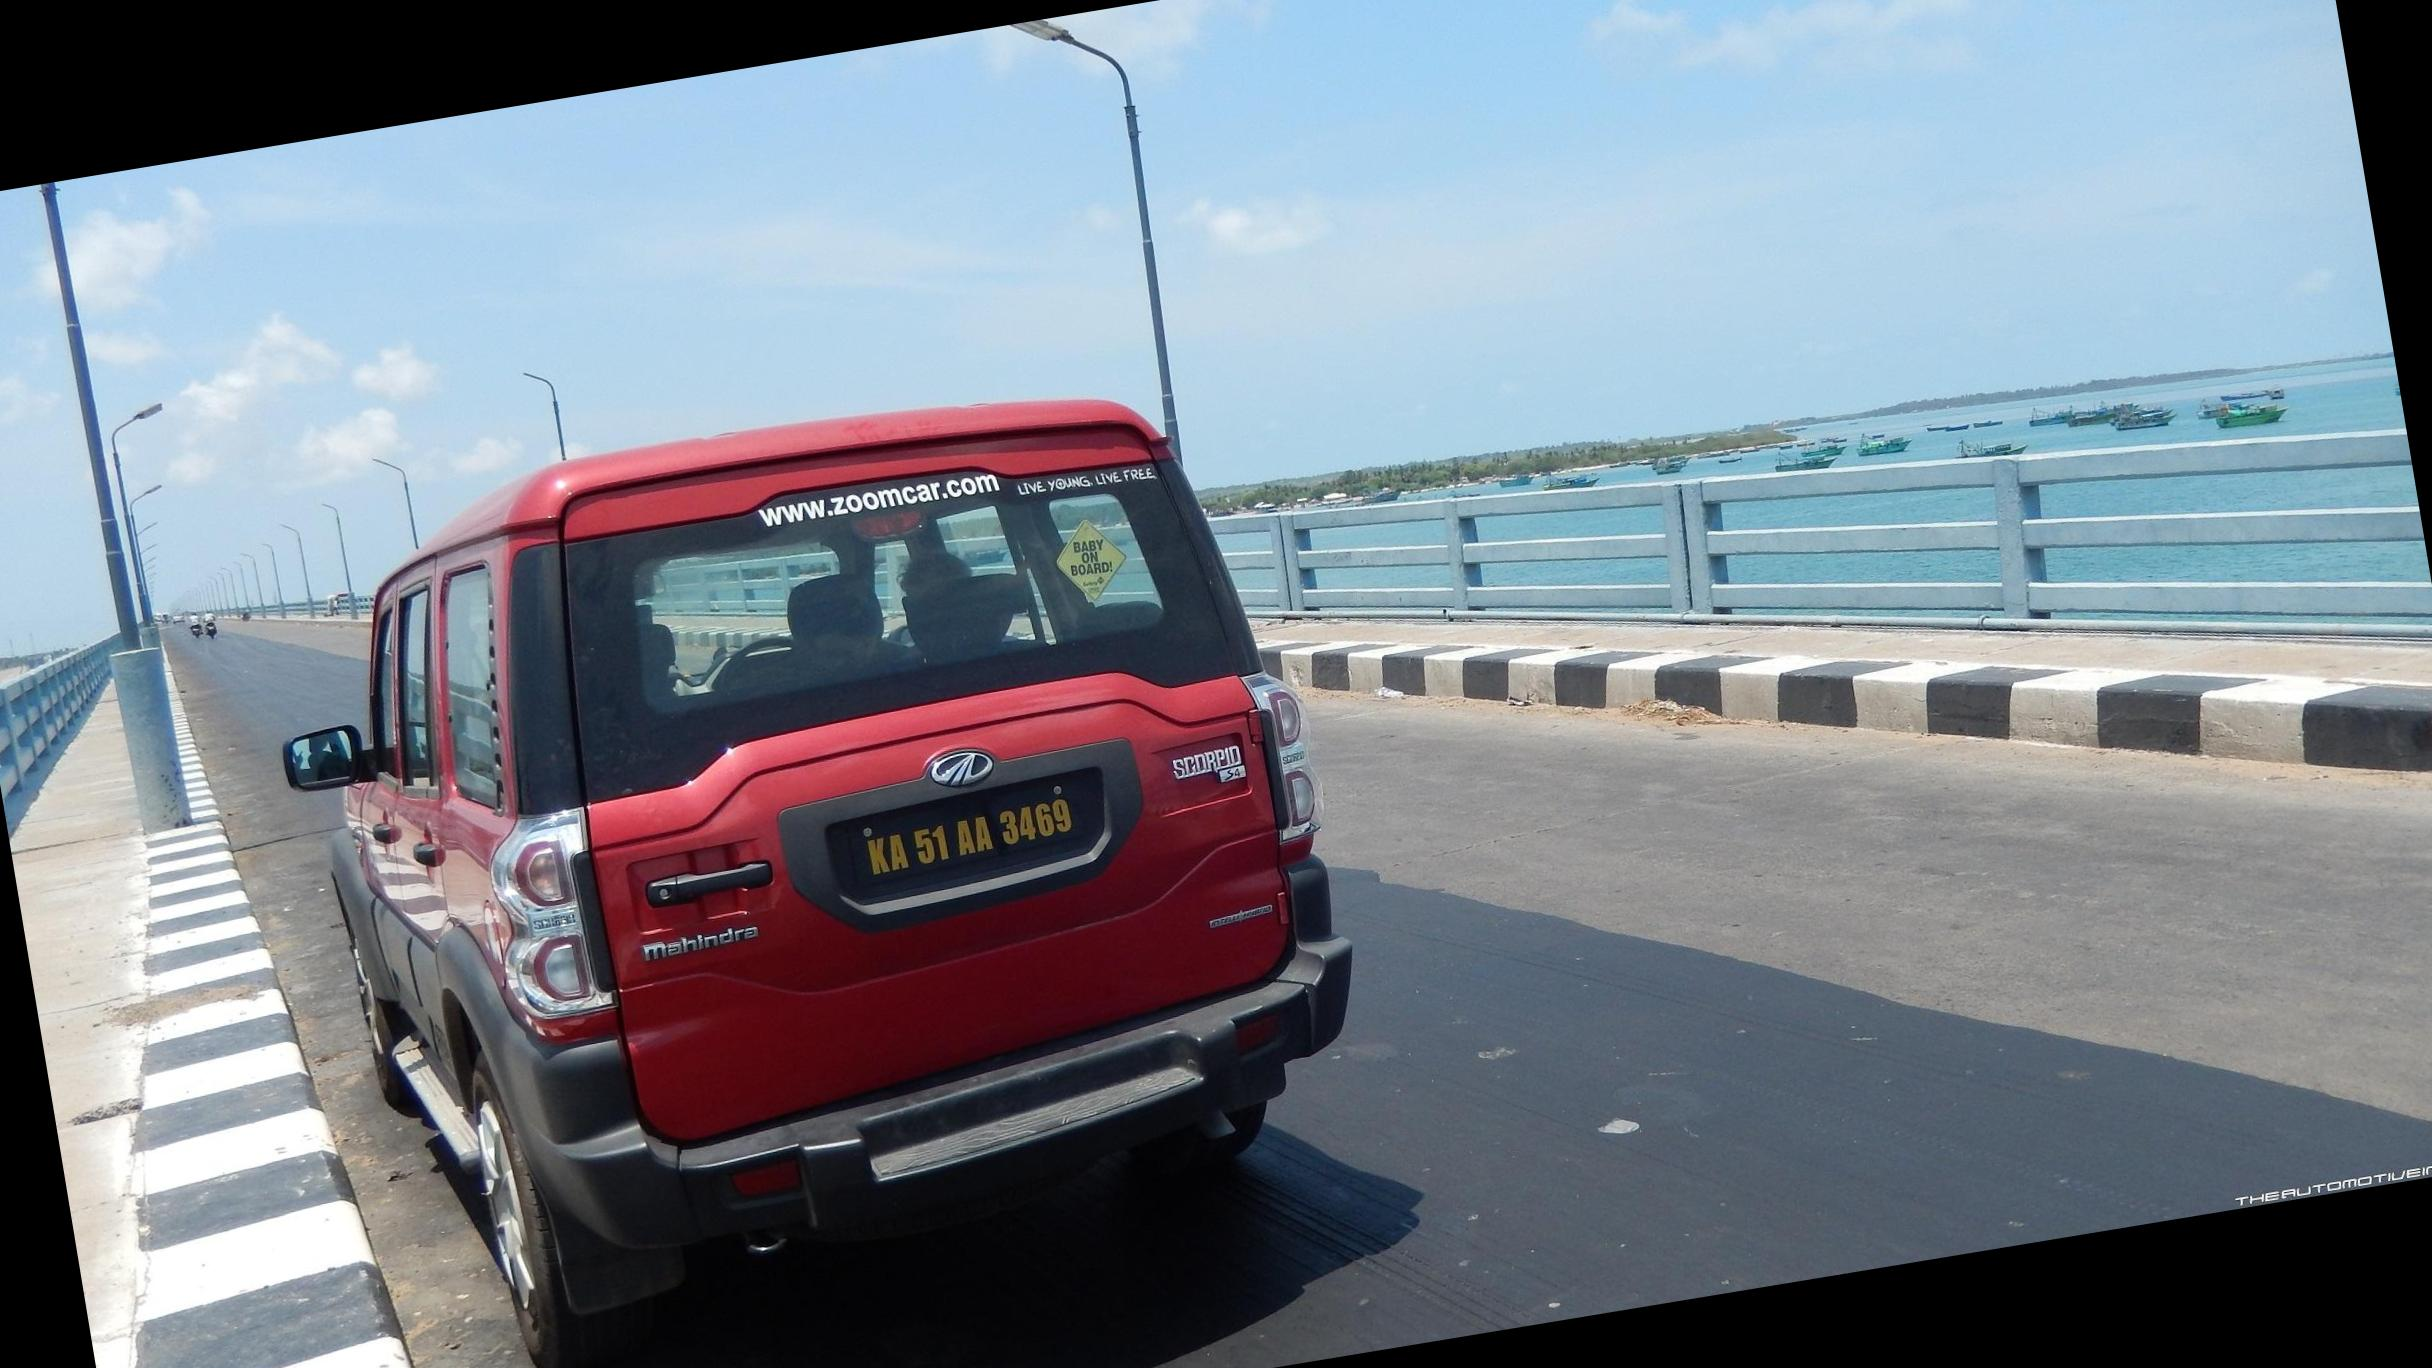plate: (781, 739, 1148, 914)
